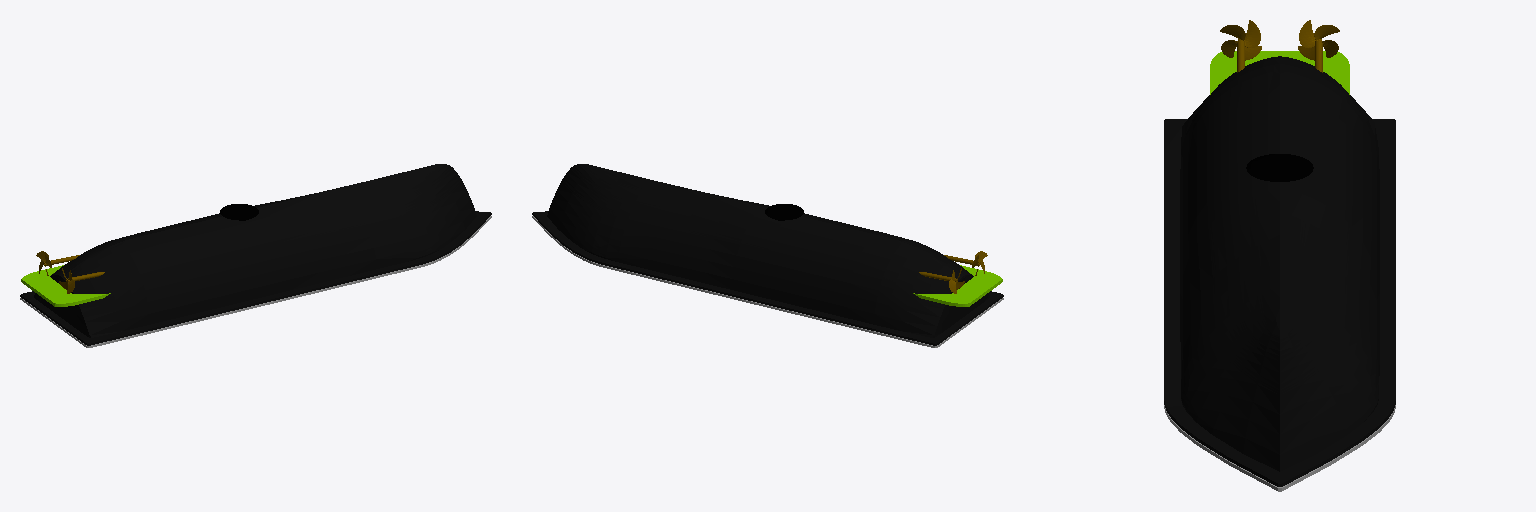
URDF robot description (myfirst):
<?xml version="1.0"?>
<robot name="myfirst">
  <link name="boat_link">
    <visual>
      <origin rpy="3.141592 0 -1.570796" xyz="0 0 0.07"/>
      <geometry>
        <mesh filename="package://aauship/urdf/aauship.dae" scale="0.1 0.1 0.1"/>
      </geometry>
    </visual>
  </link>
</robot>

--- Render facts (derived) ---
3 views of the same robot in one strip: view 1: azimuth 30°, elevation 25°; view 2: azimuth 150°, elevation 25°; view 3: azimuth 270°, elevation 25° (orthographic).
Model myfirst with 1 links and 0 joints (none), rooted at boat_link, posed every joint at zero.
Visible links, largest first — view 1: boat_link; view 2: boat_link; view 3: boat_link.
Link boxes in pixels (x1,y1,x2,y2): boat_link: (20, 164, 491, 347); boat_link: (532, 164, 1003, 347); boat_link: (1164, 20, 1395, 491).
Size in the robot's own frame: 1.15 by 0.3 by 0.1674 metres.
Meshes: 1 distinct files referenced, 1 mesh visuals loaded (1 Collada DAE).
